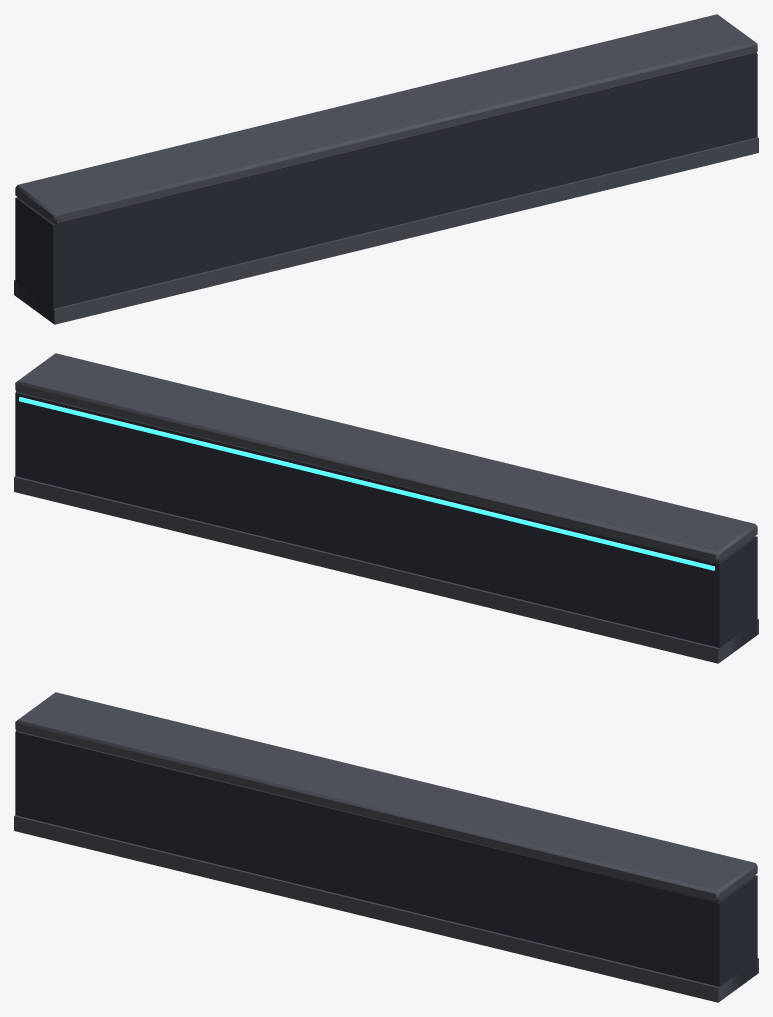
File: low_wall.glb
3 views of the same model, one above another, from view 1: azimuth 30°, elevation 25°; view 2: azimuth 150°, elevation 25°; view 3: azimuth 330°, elevation 25° (orthographic).
Parts seen in each view (by area): view 1: body; view 2: body; view 3: body.
Part boxes in pixels (left/top/right/bottom): body: left=14, top=14, right=758, bottom=324; body: left=14, top=353, right=758, bottom=663; body: left=14, top=692, right=758, bottom=1002.
Bounding box in the file's own units: 3 × 0.45 × 0.3.
